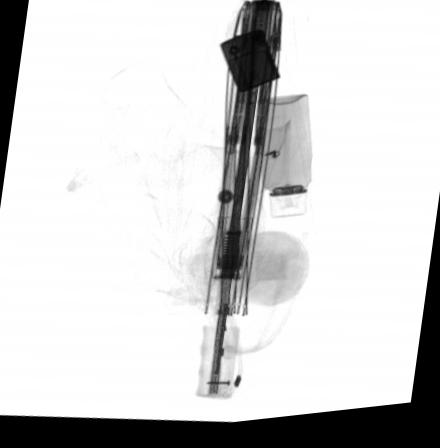Lighter: (220, 34, 281, 98)
Sprayer: (259, 102, 313, 224)
